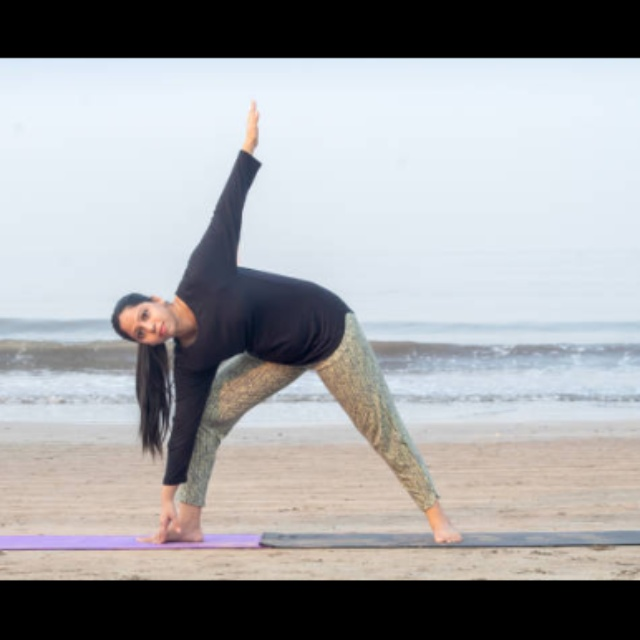Triangle_Pose: (100, 98, 467, 552)
